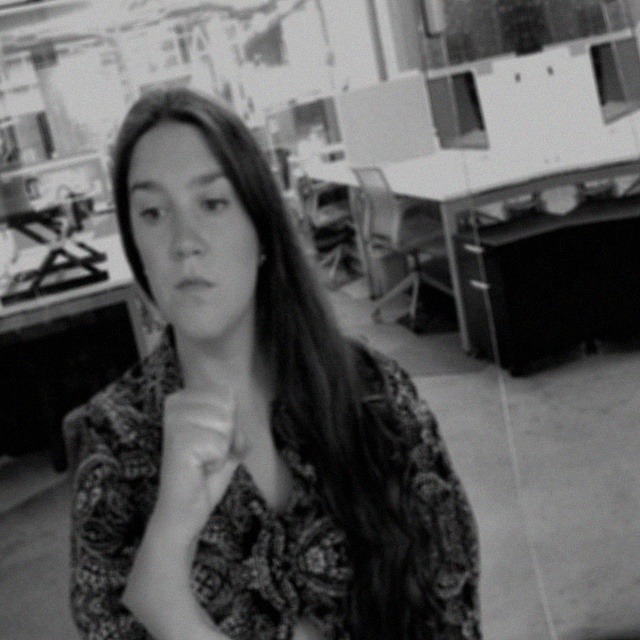Rock: (125, 364, 275, 539)
